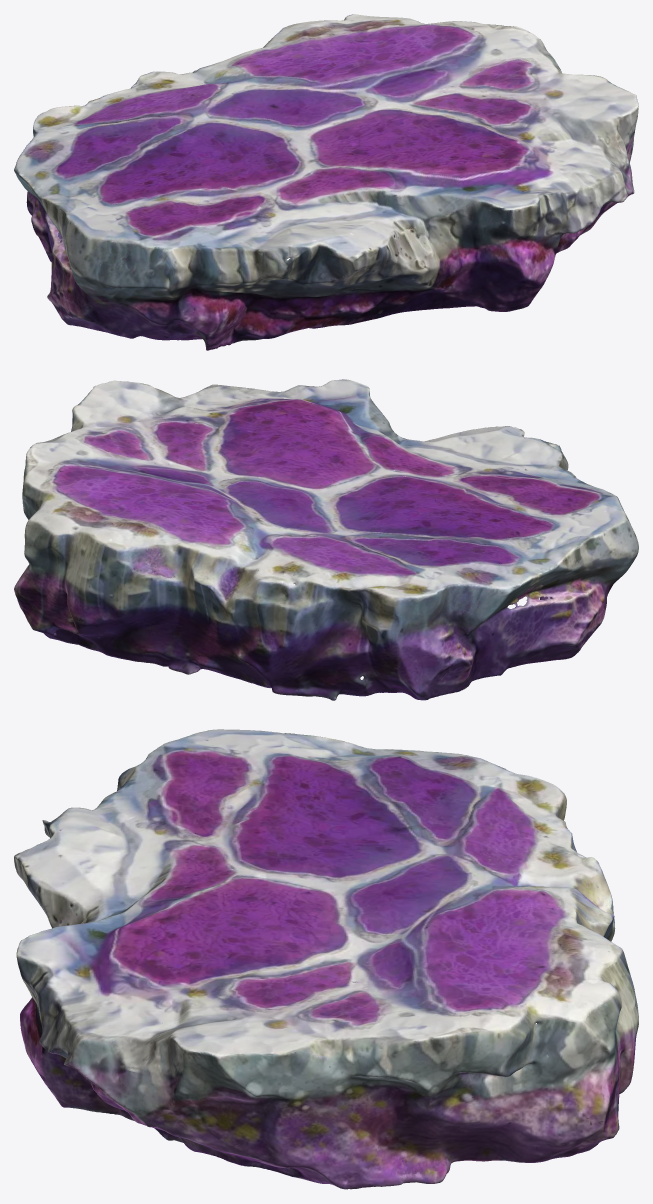
The model's file is flat_plating_reef_texture.glb.
3 views of the same model, one above another, from view 1: azimuth 30°, elevation 25°; view 2: azimuth 150°, elevation 25°; view 3: azimuth 270°, elevation 25° (orthographic). The views are drawn at different scales.
Size of the model in its own units: 2 by 0.4552 by 1.54.
Materials: 1 (1 with a texture image).
